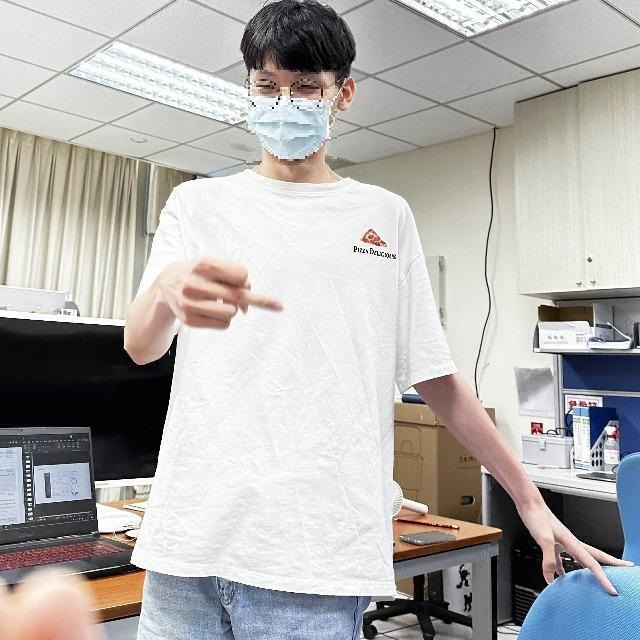NoHelmet: (238, 0, 360, 165)
NoVest: (156, 172, 430, 597)
